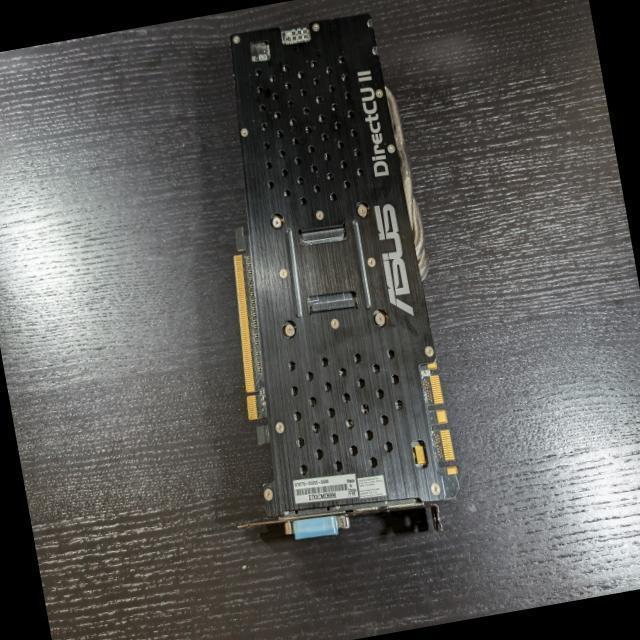GPU: (223, 10, 464, 548)
